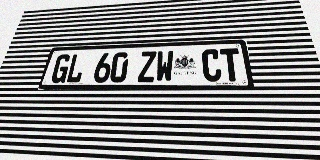0: (109, 52, 129, 83)
6: (92, 53, 113, 83)
C: (202, 49, 222, 82)
G: (50, 54, 72, 83)
L: (65, 54, 87, 83)
T: (220, 48, 243, 81)
W: (155, 50, 173, 82)
Z: (137, 51, 156, 82)
